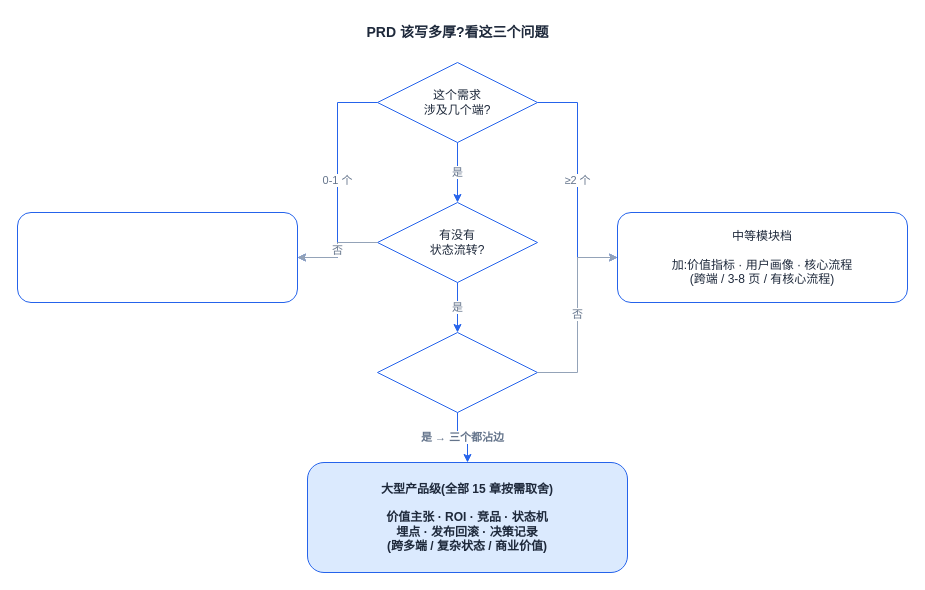
The diagram is 925 pixels wide and 590 high, and some of its shapes have lost their labels. Here are the shapes that lost their labels. From the top down, the box of each, then its label:
(16, 212, 298, 302): 小功能档 背景目标 · 范围 · 角色 · 功能清单 (单端 / 1-2 页 / 无状态流转)
(376, 332, 538, 412): 要不要 算商业账?
